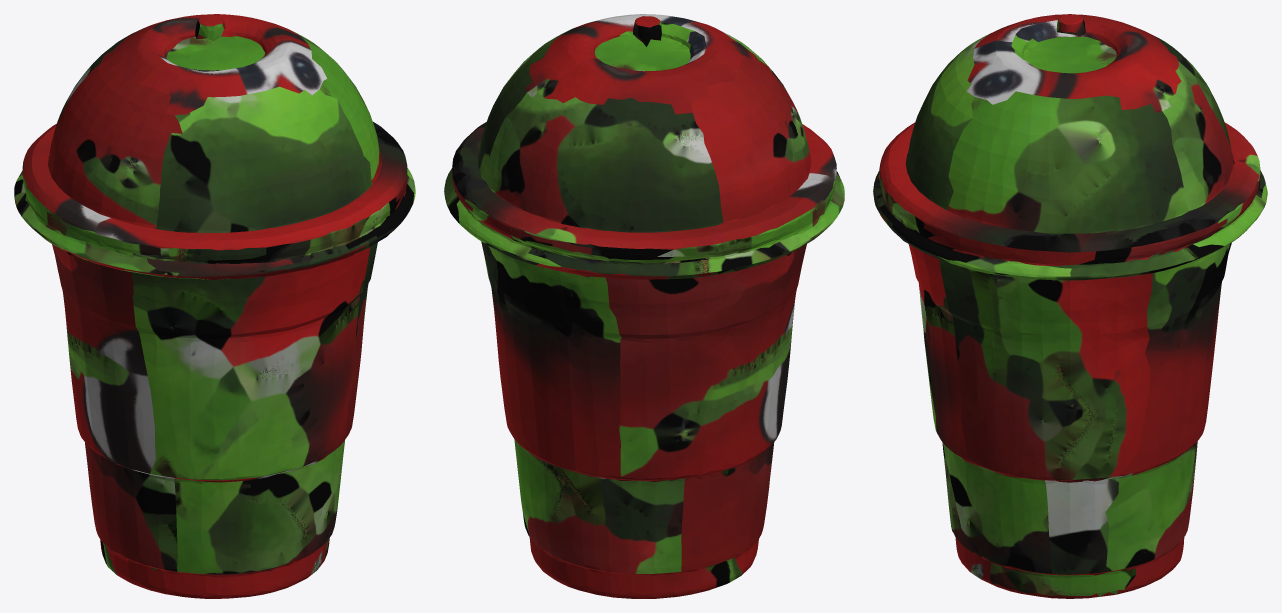
The model's file is sample.obj.
3 renders of one model, left to right at view 1: azimuth 30°, elevation 25°; view 2: azimuth 150°, elevation 25°; view 3: azimuth 270°, elevation 25°, orthographic.
Size of the model in its own units: 0.1199 by 0.175 by 0.1178.
